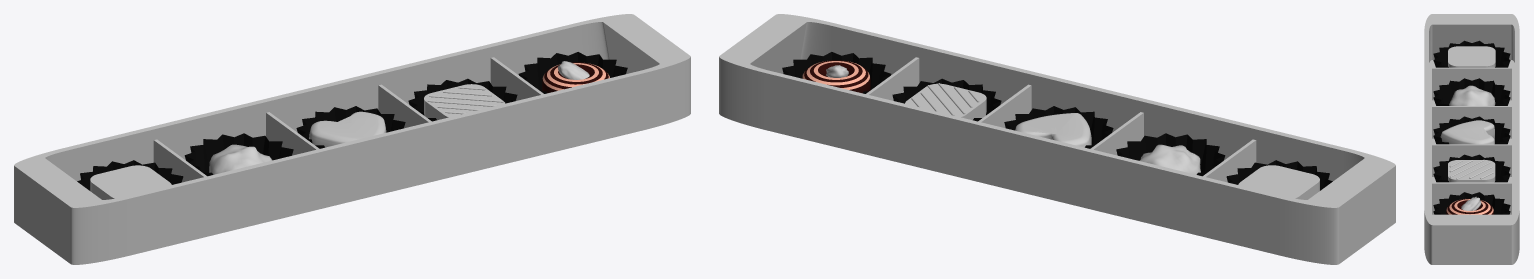
File: chocooo.obj
3 views of the same model, side by side, from view 1: azimuth 30°, elevation 25°; view 2: azimuth 150°, elevation 25°; view 3: azimuth 270°, elevation 25° (orthographic). The views are drawn at different scales.
Parts seen in each view (by area): view 1: Cube_Cube.003, Cube.003_Cube.002, 円, Cylinder.002_Cylinder.008, Cube.001, Cylinder.006_Cylinder.011, 球, Cylinder.001, 立方体.002, 立方体.001, 立方体, 円柱.007 (+4 smaller); view 2: Cube_Cube.003, Cube.003_Cube.002, Cylinder.002_Cylinder.008, 円, Cube.001, 円柱.007, Cylinder.006_Cylinder.011, Cylinder.001, 球, 立方体.002, 立方体.001, 立方体 (+3 smaller); view 3: Cube_Cube.003, 立方体.003, 立方体.001, 立方体, 立方体.002, 円, Cylinder.002_Cylinder.008, Cube.003_Cube.002, Cube.001, Cylinder.006_Cylinder.011, Cylinder.003_Cylinder.009, Cylinder.005_Cylinder.010 (+7 smaller).
Part boxes in pixels (box(x1,y1,x2,y2)): Cube_Cube.003: box(14, 14, 690, 264); Cube.003_Cube.002: box(90, 165, 171, 199); 円: box(309, 111, 386, 147); Cylinder.002_Cylinder.008: box(184, 133, 293, 176); Cube.001: box(424, 84, 505, 119); Cylinder.006_Cylinder.011: box(518, 52, 627, 93); 球: box(209, 144, 272, 174); Cylinder.001: box(296, 106, 405, 148); 立方体.002: box(490, 57, 543, 100); 立方体.001: box(378, 84, 431, 128); 立方体: box(266, 112, 319, 155); 円柱.007: box(542, 62, 609, 93); Cube_Cube.003: box(719, 14, 1395, 264); Cube.003_Cube.002: box(1238, 165, 1319, 199); Cylinder.002_Cylinder.008: box(1116, 133, 1225, 176); 円: box(1015, 113, 1091, 147); Cube.001: box(905, 83, 986, 119); 円柱.007: box(802, 60, 870, 93); Cylinder.006_Cylinder.011: box(782, 52, 891, 93); Cylinder.001: box(1004, 106, 1113, 148); 球: box(1139, 144, 1200, 174); 立方体.002: box(866, 57, 919, 100); 立方体.001: box(978, 84, 1031, 128); 立方体: box(1090, 112, 1143, 155); Cube_Cube.003: box(1424, 14, 1519, 264); 立方体.003: box(1432, 67, 1511, 100); 立方体.001: box(1432, 144, 1511, 176); 立方体: box(1432, 106, 1511, 138); 立方体.002: box(1432, 182, 1511, 214); 円: box(1440, 120, 1494, 144); Cylinder.002_Cylinder.008: box(1433, 78, 1510, 105); Cube.003_Cube.002: box(1448, 46, 1495, 67); Cube.001: box(1448, 160, 1495, 182); Cylinder.006_Cylinder.011: box(1433, 192, 1510, 214); Cylinder.003_Cylinder.009: box(1433, 40, 1510, 67); Cylinder.005_Cylinder.010: box(1433, 154, 1510, 182).
Size of the model in its own units: 5.88 by 0.5175 by 1.12.
